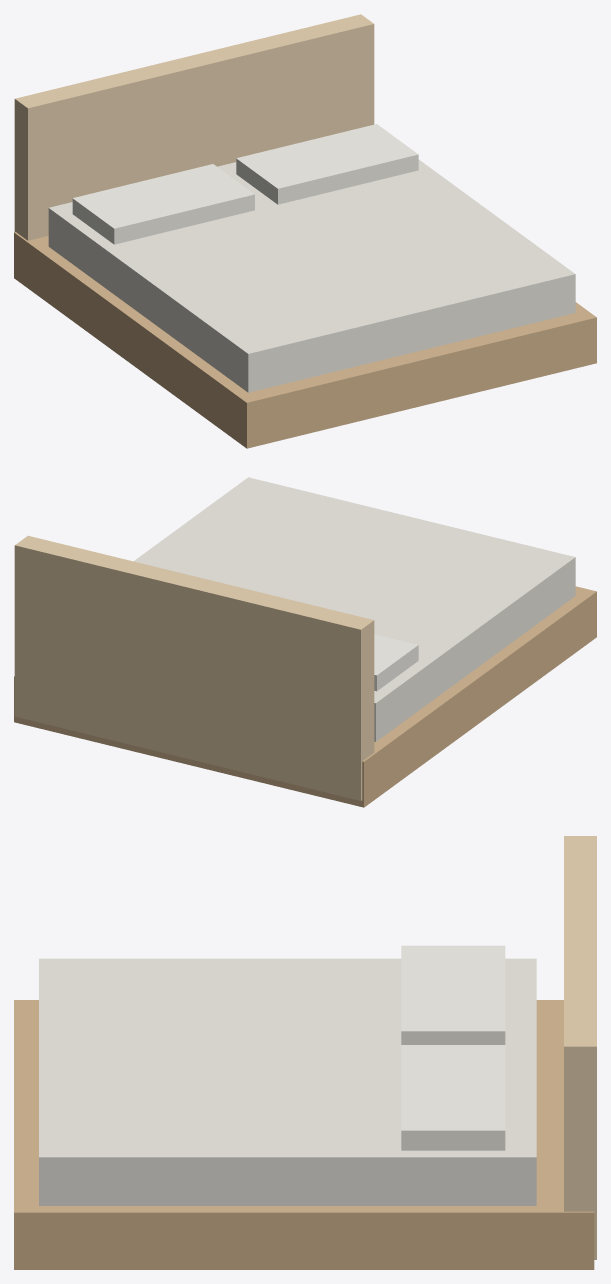
File: bed_double.glb
The picture shows the model from 3 angles, top to bottom: view 1: azimuth 30°, elevation 25°; view 2: azimuth 150°, elevation 25°; view 3: azimuth 270°, elevation 25°; orthographic projection. The views are drawn at different scales.
Parts seen in each view (by area): view 1: bed_double_ivory_1, bed_double_oak_light_2, bed_double_oak_0, bed_double_white_3, bed_double_white_4; view 2: bed_double_oak_light_2, bed_double_ivory_1, bed_double_oak_0, bed_double_white_3; view 3: bed_double_ivory_1, bed_double_oak_0, bed_double_oak_light_2, bed_double_white_4, bed_double_white_3.
Part boxes in pixels (box(x1,y1,x2,y2)): bed_double_ivory_1: box(48, 159, 575, 392); bed_double_oak_light_2: box(14, 14, 374, 240); bed_double_oak_0: box(14, 232, 596, 448); bed_double_white_3: box(72, 164, 254, 244); bed_double_white_4: box(236, 124, 418, 204); bed_double_oak_light_2: box(14, 535, 374, 800); bed_double_ivory_1: box(133, 477, 575, 741); bed_double_oak_0: box(14, 586, 596, 807); bed_double_white_3: box(374, 634, 418, 691); bed_double_ivory_1: box(39, 958, 536, 1205); bed_double_oak_0: box(14, 1000, 594, 1269); bed_double_oak_light_2: box(564, 836, 596, 1259); bed_double_white_4: box(401, 1045, 505, 1150); bed_double_white_3: box(401, 945, 505, 1044).
Bounding box in the file's own units: 1.84 × 0.895 × 2.13.
